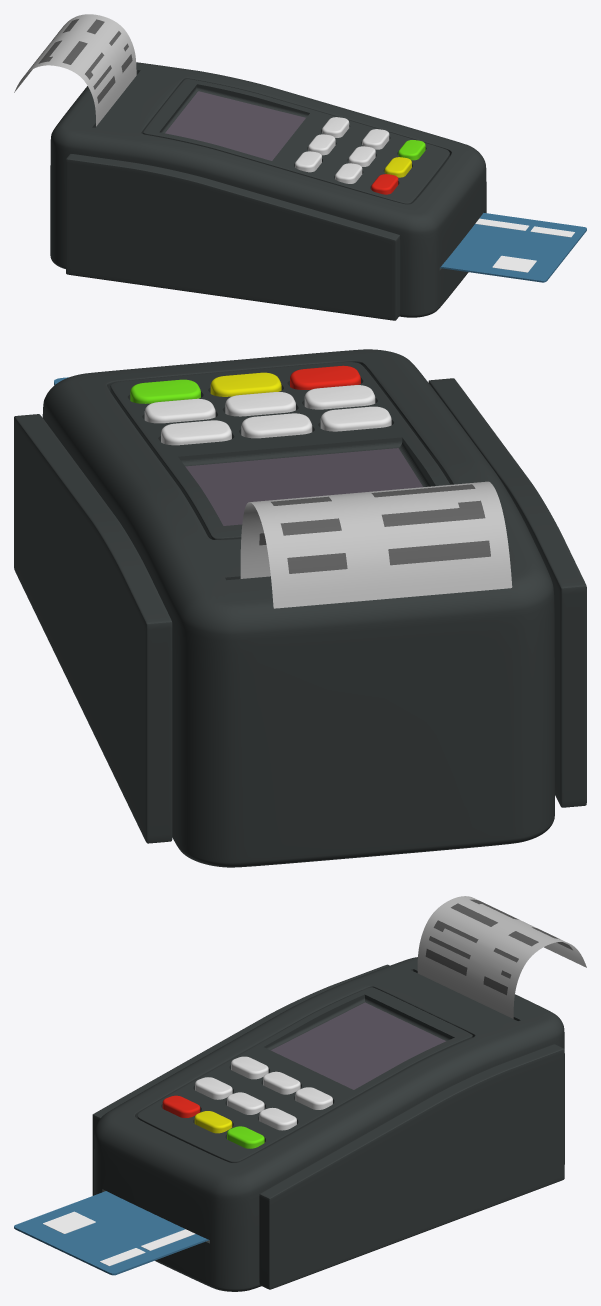
Rendered from Pos1.fbx.
3 renders of one model, top to bottom at view 1: azimuth 30°, elevation 25°; view 2: azimuth 150°, elevation 25°; view 3: azimuth 270°, elevation 25°, orthographic. The views are drawn at different scales.
Parts seen in each view (by area): view 1: Cube, Cube.003, Plane.003, Cube.001, Plane, Cube.002, Plane.004, Plane.002, Cube.004, Cube.005, Cube.006; view 2: Cube, Cube.003, Plane, Cube.001, Cube.002, Plane.004, Cube.006, Cube.005, Cube.004; view 3: Cube, Cube.003, Plane, Cube.001, Plane.003, Cube.002, Plane.004, Plane.002, Cube.006, Cube.004, Cube.005.
Boxes of the visible parts, left/top/right/bottom form: Cube: left=50, top=62, right=486, bottom=317; Cube.003: left=66, top=154, right=400, bottom=320; Plane.003: left=440, top=213, right=586, bottom=282; Cube.001: left=165, top=91, right=305, bottom=160; Plane: left=14, top=14, right=136, bottom=126; Cube.002: left=295, top=117, right=389, bottom=183; Plane.004: left=27, top=19, right=132, bottom=103; Plane.002: left=475, top=218, right=574, bottom=272; Cube.004: left=371, top=174, right=398, bottom=194; Cube.005: left=398, top=140, right=425, bottom=160; Cube.006: left=384, top=157, right=411, bottom=177; Cube: left=42, top=349, right=554, bottom=867; Cube.003: left=14, top=378, right=586, bottom=843; Plane: left=240, top=481, right=512, bottom=608; Cube.001: left=185, top=448, right=422, bottom=525; Cube.002: left=144, top=385, right=391, bottom=445; Plane.004: left=259, top=484, right=490, bottom=573; Cube.006: left=210, top=372, right=281, bottom=396; Cube.005: left=130, top=379, right=200, bottom=403; Cube.004: left=290, top=365, right=360, bottom=389; Cube: left=94, top=957, right=564, bottom=1291; Cube.003: left=92, top=964, right=564, bottom=1289; Plane: left=417, top=896, right=586, bottom=1018; Cube.001: left=271, top=1002, right=445, bottom=1089; Plane.003: left=14, top=1191, right=209, bottom=1275; Cube.002: left=195, top=1056, right=332, bottom=1130; Plane.004: left=425, top=899, right=572, bottom=995; Plane.002: left=43, top=1211, right=195, bottom=1266; Cube.006: left=194, top=1111, right=232, bottom=1133; Cube.004: left=162, top=1095, right=200, bottom=1117; Cube.005: left=227, top=1126, right=264, bottom=1148.
Bounding box in the file's own units: 18.71 × 8.25 × 20.16.
